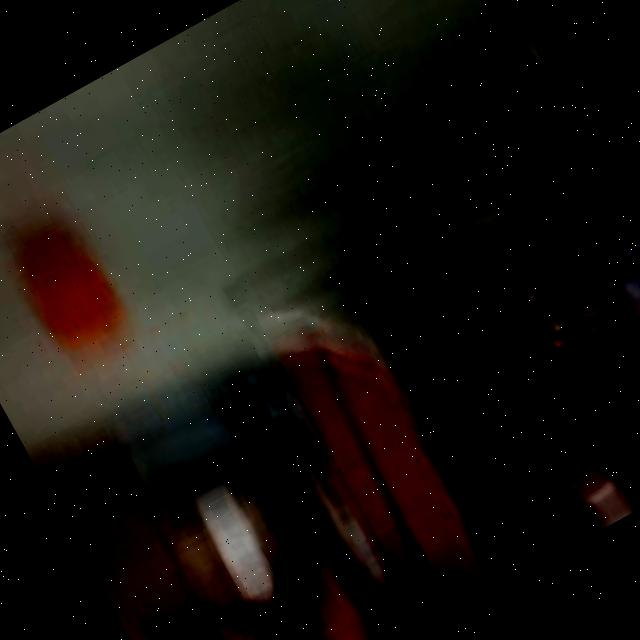ping-pong-ball: (7, 220, 141, 362)
